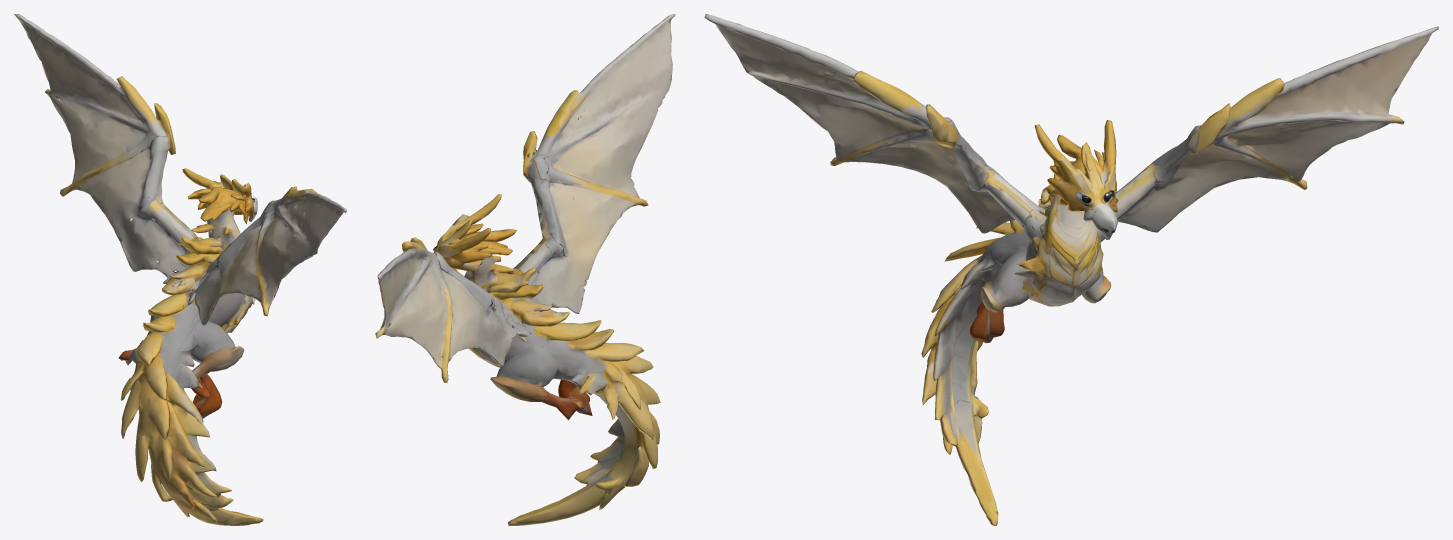
The model's file is drache.glb.
3 renders of one model, left to right at view 1: azimuth 30°, elevation 25°; view 2: azimuth 150°, elevation 25°; view 3: azimuth 270°, elevation 25°, orthographic. The views are drawn at different scales.
Parts seen in each view (by area): view 1: tripo_node_020b6583-4a7e-4b6a-b012-d63d9c65ce97; view 2: tripo_node_020b6583-4a7e-4b6a-b012-d63d9c65ce97; view 3: tripo_node_020b6583-4a7e-4b6a-b012-d63d9c65ce97.
Part boxes in pixels (x1,y1,x2,y2): tripo_node_020b6583-4a7e-4b6a-b012-d63d9c65ce97: (14, 14, 346, 525); tripo_node_020b6583-4a7e-4b6a-b012-d63d9c65ce97: (375, 14, 675, 525); tripo_node_020b6583-4a7e-4b6a-b012-d63d9c65ce97: (704, 14, 1438, 525).
Size of the model in its own units: 0.3476 by 0.7364 by 1.
Materials: 1 (1 with a texture image).
